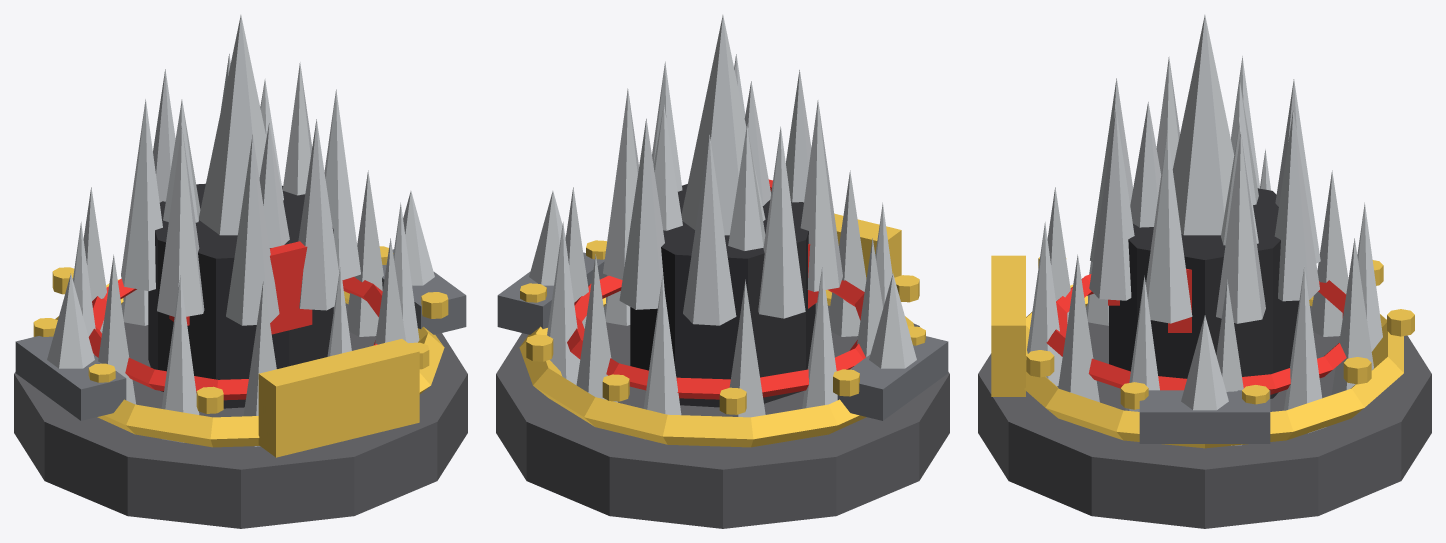
The model's file is TD_SpikeTower_T3.fbx.
The picture shows the model from 3 angles, left to right: view 1: azimuth 30°, elevation 25°; view 2: azimuth 150°, elevation 25°; view 3: azimuth 270°, elevation 25°; orthographic projection.
Parts seen in each view (by area): view 1: TD_SpikeTower_T3_Base, TD_SpikeTower_T3_FrontGoldArmorPlate, TD_SpikeTower_T3_BlackRedMechanicCore, TD_SpikeTower_T3_EliteCenterSpike_01, TD_SpikeTower_T3_GoldReinforcementRing, TD_SpikeTower_T3_MidSpike_06, TD_SpikeTower_T3_SpikePlate_Left, TD_SpikeTower_T3_MidSpike_05, TD_SpikeTower_T3_MidSpike_07, TD_SpikeTower_T3_MidSpike_04, TD_SpikeTower_T3_MidSpike_08, TD_SpikeTower_T3_RedDangerRing (+21 smaller); view 2: TD_SpikeTower_T3_Base, TD_SpikeTower_T3_BlackRedMechanicCore, TD_SpikeTower_T3_GoldReinforcementRing, TD_SpikeTower_T3_EliteCenterSpike_01, TD_SpikeTower_T3_MidSpike_03, TD_SpikeTower_T3_RedDangerRing, TD_SpikeTower_T3_MidSpike_02, TD_SpikeTower_T3_MidSpike_04, TD_SpikeTower_T3_SpikePlate_Left, TD_SpikeTower_T3_MidSpike_05, TD_SpikeTower_T3_MidSpike_01, TD_SpikeTower_T3_OuterSpike_09 (+23 smaller); view 3: TD_SpikeTower_T3_Base, TD_SpikeTower_T3_BlackRedMechanicCore, TD_SpikeTower_T3_GoldReinforcementRing, TD_SpikeTower_T3_EliteCenterSpike_01, TD_SpikeTower_T3_SpikePlate_Right, TD_SpikeTower_T3_FrontGoldArmorPlate, TD_SpikeTower_T3_MidSpike_08, TD_SpikeTower_T3_MidSpike_07, TD_SpikeTower_T3_MidSpike_01, TD_SpikeTower_T3_MidSpike_02, TD_SpikeTower_T3_RedDangerRing, TD_SpikeTower_T3_OuterSpike_05 (+21 smaller).
Part boxes in pixels (x1,y1,x2,y2): TD_SpikeTower_T3_Base: [14, 303, 467, 528]; TD_SpikeTower_T3_FrontGoldArmorPlate: [258, 339, 419, 457]; TD_SpikeTower_T3_BlackRedMechanicCore: [148, 183, 333, 408]; TD_SpikeTower_T3_EliteCenterSpike_01: [199, 15, 266, 235]; TD_SpikeTower_T3_GoldReinforcementRing: [55, 279, 444, 447]; TD_SpikeTower_T3_MidSpike_06: [226, 134, 279, 325]; TD_SpikeTower_T3_SpikePlate_Left: [15, 336, 126, 420]; TD_SpikeTower_T3_MidSpike_05: [157, 126, 204, 316]; TD_SpikeTower_T3_MidSpike_07: [298, 119, 339, 310]; TD_SpikeTower_T3_MidSpike_04: [121, 99, 162, 290]; TD_SpikeTower_T3_MidSpike_08: [324, 89, 360, 280]; TD_SpikeTower_T3_RedDangerRing: [88, 277, 382, 400]; TD_SpikeTower_T3_Base: [496, 302, 949, 528]; TD_SpikeTower_T3_BlackRedMechanicCore: [630, 184, 815, 407]; TD_SpikeTower_T3_GoldReinforcementRing: [519, 289, 914, 447]; TD_SpikeTower_T3_EliteCenterSpike_01: [681, 15, 765, 235]; TD_SpikeTower_T3_MidSpike_03: [683, 134, 736, 325]; TD_SpikeTower_T3_RedDangerRing: [567, 275, 865, 399]; TD_SpikeTower_T3_MidSpike_02: [619, 118, 664, 309]; TD_SpikeTower_T3_MidSpike_04: [758, 126, 805, 318]; TD_SpikeTower_T3_SpikePlate_Left: [837, 336, 948, 420]; TD_SpikeTower_T3_MidSpike_05: [800, 100, 842, 291]; TD_SpikeTower_T3_MidSpike_01: [603, 88, 638, 279]; TD_SpikeTower_T3_OuterSpike_09: [829, 170, 866, 336]; TD_SpikeTower_T3_Base: [978, 305, 1431, 528]; TD_SpikeTower_T3_BlackRedMechanicCore: [1109, 188, 1299, 398]; TD_SpikeTower_T3_GoldReinforcementRing: [1024, 284, 1403, 448]; TD_SpikeTower_T3_EliteCenterSpike_01: [1172, 15, 1234, 235]; TD_SpikeTower_T3_SpikePlate_Right: [1139, 390, 1270, 443]; TD_SpikeTower_T3_FrontGoldArmorPlate: [991, 255, 1025, 396]; TD_SpikeTower_T3_MidSpike_08: [1146, 130, 1192, 323]; TD_SpikeTower_T3_MidSpike_07: [1089, 109, 1134, 300]; TD_SpikeTower_T3_MidSpike_01: [1216, 132, 1265, 323]; TD_SpikeTower_T3_MidSpike_02: [1274, 110, 1319, 301]; TD_SpikeTower_T3_RedDangerRing: [1046, 274, 1346, 394]; TD_SpikeTower_T3_OuterSpike_05: [1311, 170, 1348, 336].
Bounding box in the file's own units: 1.04 × 1.06 × 1.04.
